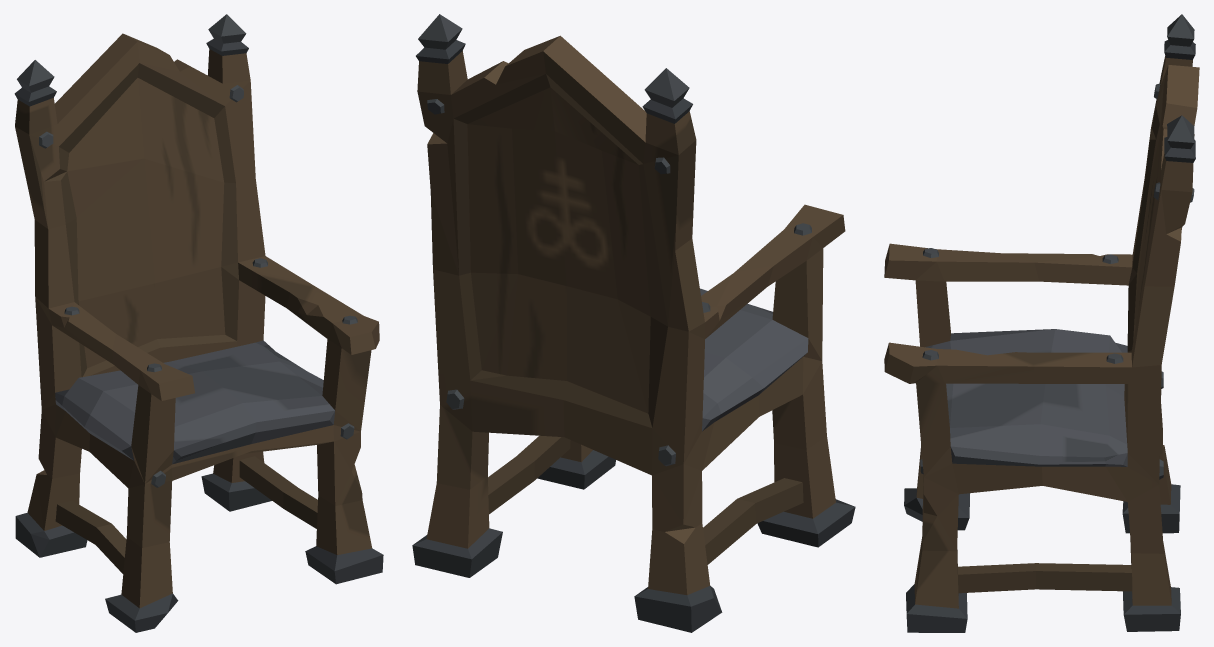
File: crypt_chair.gltf
The picture shows the model from 3 angles, left to right: view 1: azimuth 30°, elevation 25°; view 2: azimuth 150°, elevation 25°; view 3: azimuth 270°, elevation 25°; orthographic projection. The views are drawn at different scales.
Visible parts, largest first — view 1: crypt_chair; view 2: crypt_chair; view 3: crypt_chair.
Boxes of the visible parts, x1,y1,x2,y2 form: crypt_chair: (14,14,383,632); crypt_chair: (412,14,855,632); crypt_chair: (884,14,1199,632).
Size of the model in its own units: 0.6749 by 1.23 by 0.6908.
Materials: 1 (1 with a texture image).
